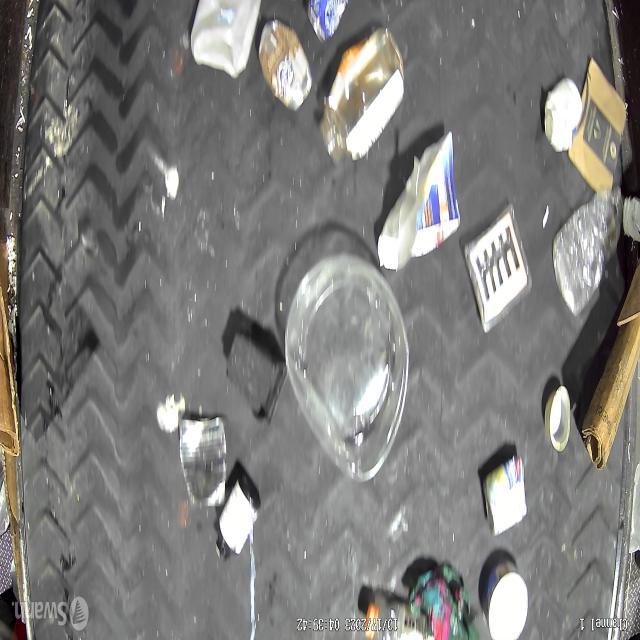can: (179, 416, 228, 509), (482, 449, 526, 540), (543, 77, 582, 152), (306, 0, 348, 45)
milk_jug: (190, 0, 263, 77)
plastic_bottle: (552, 190, 621, 313)
